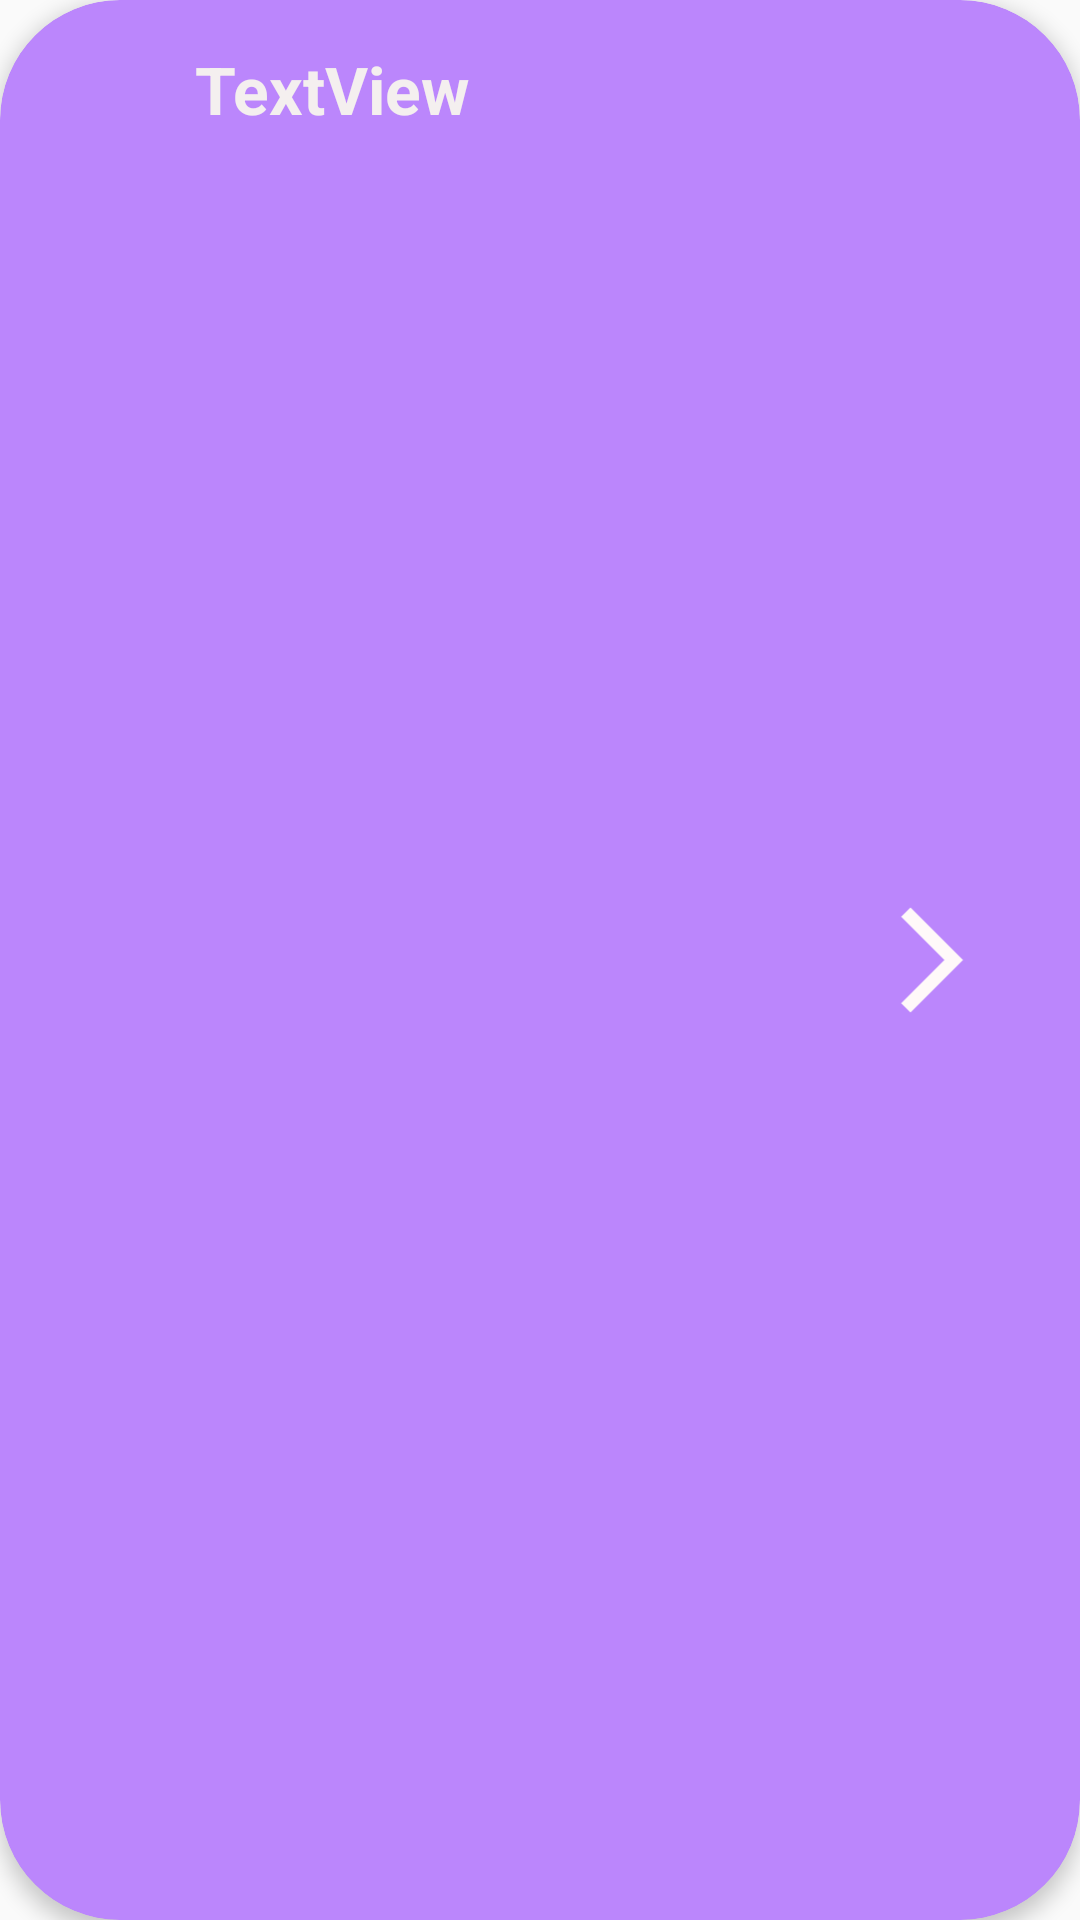

Where icons sit on this 1080w x 1920h app screen, as [x1,y1,x2,y2]:
arrow forward: [901,908,963,1012]
